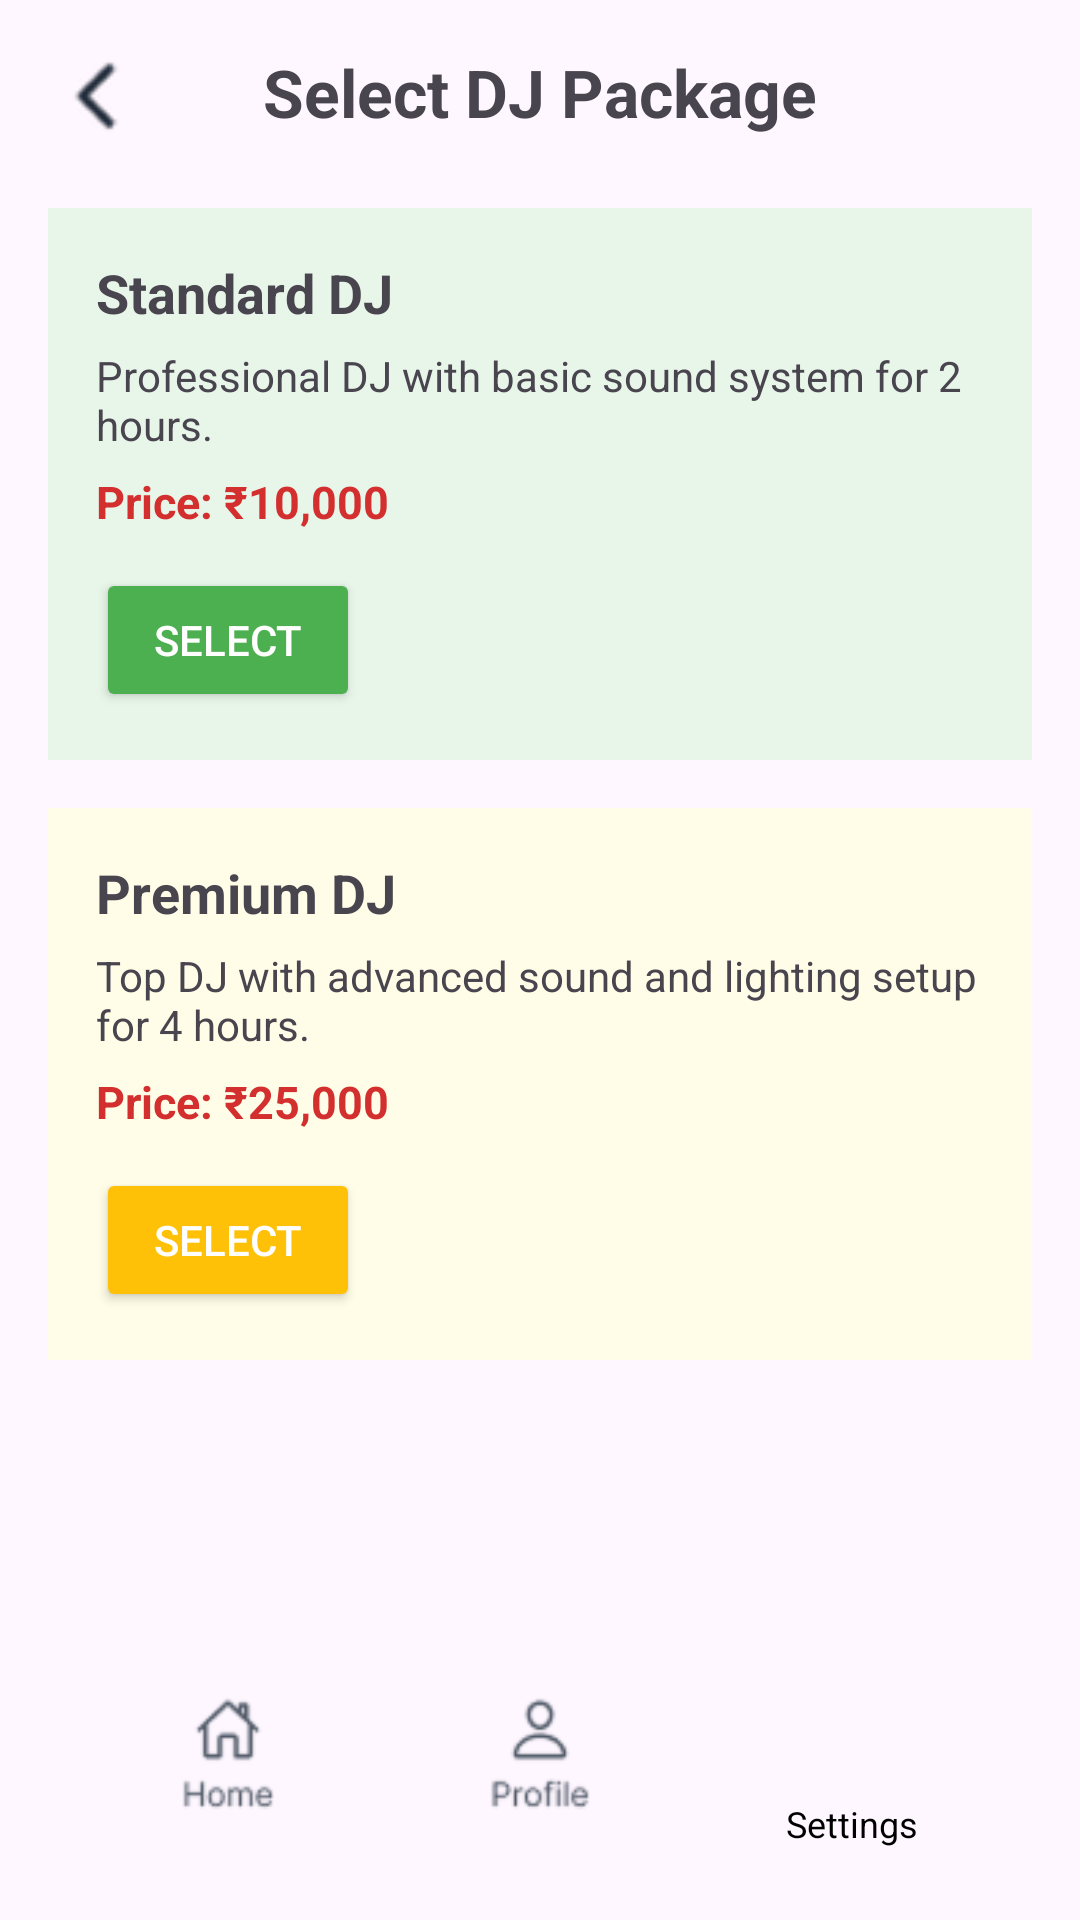

Icon click points for this 1080 × 1920 phone screenshot, format (x=x, y=y):
Back: (x=96, y=96)
